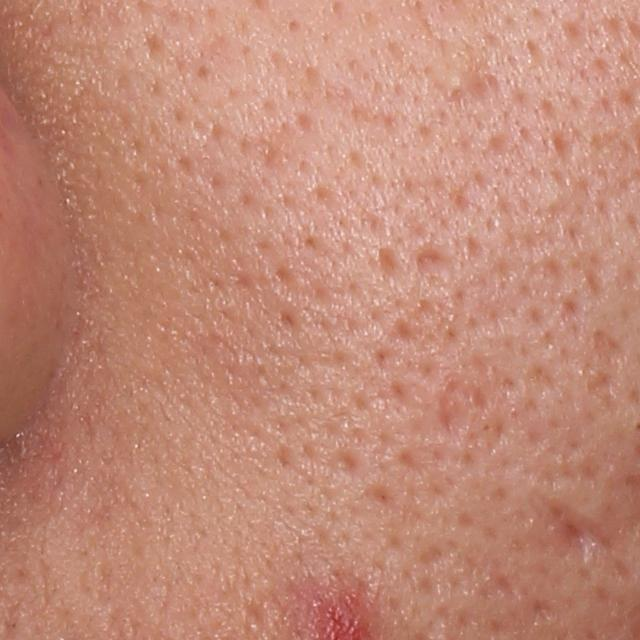atrophic_scar: (531, 490, 635, 589), (417, 386, 475, 448), (373, 246, 408, 288), (585, 367, 621, 405), (413, 245, 459, 274), (588, 328, 625, 362)
